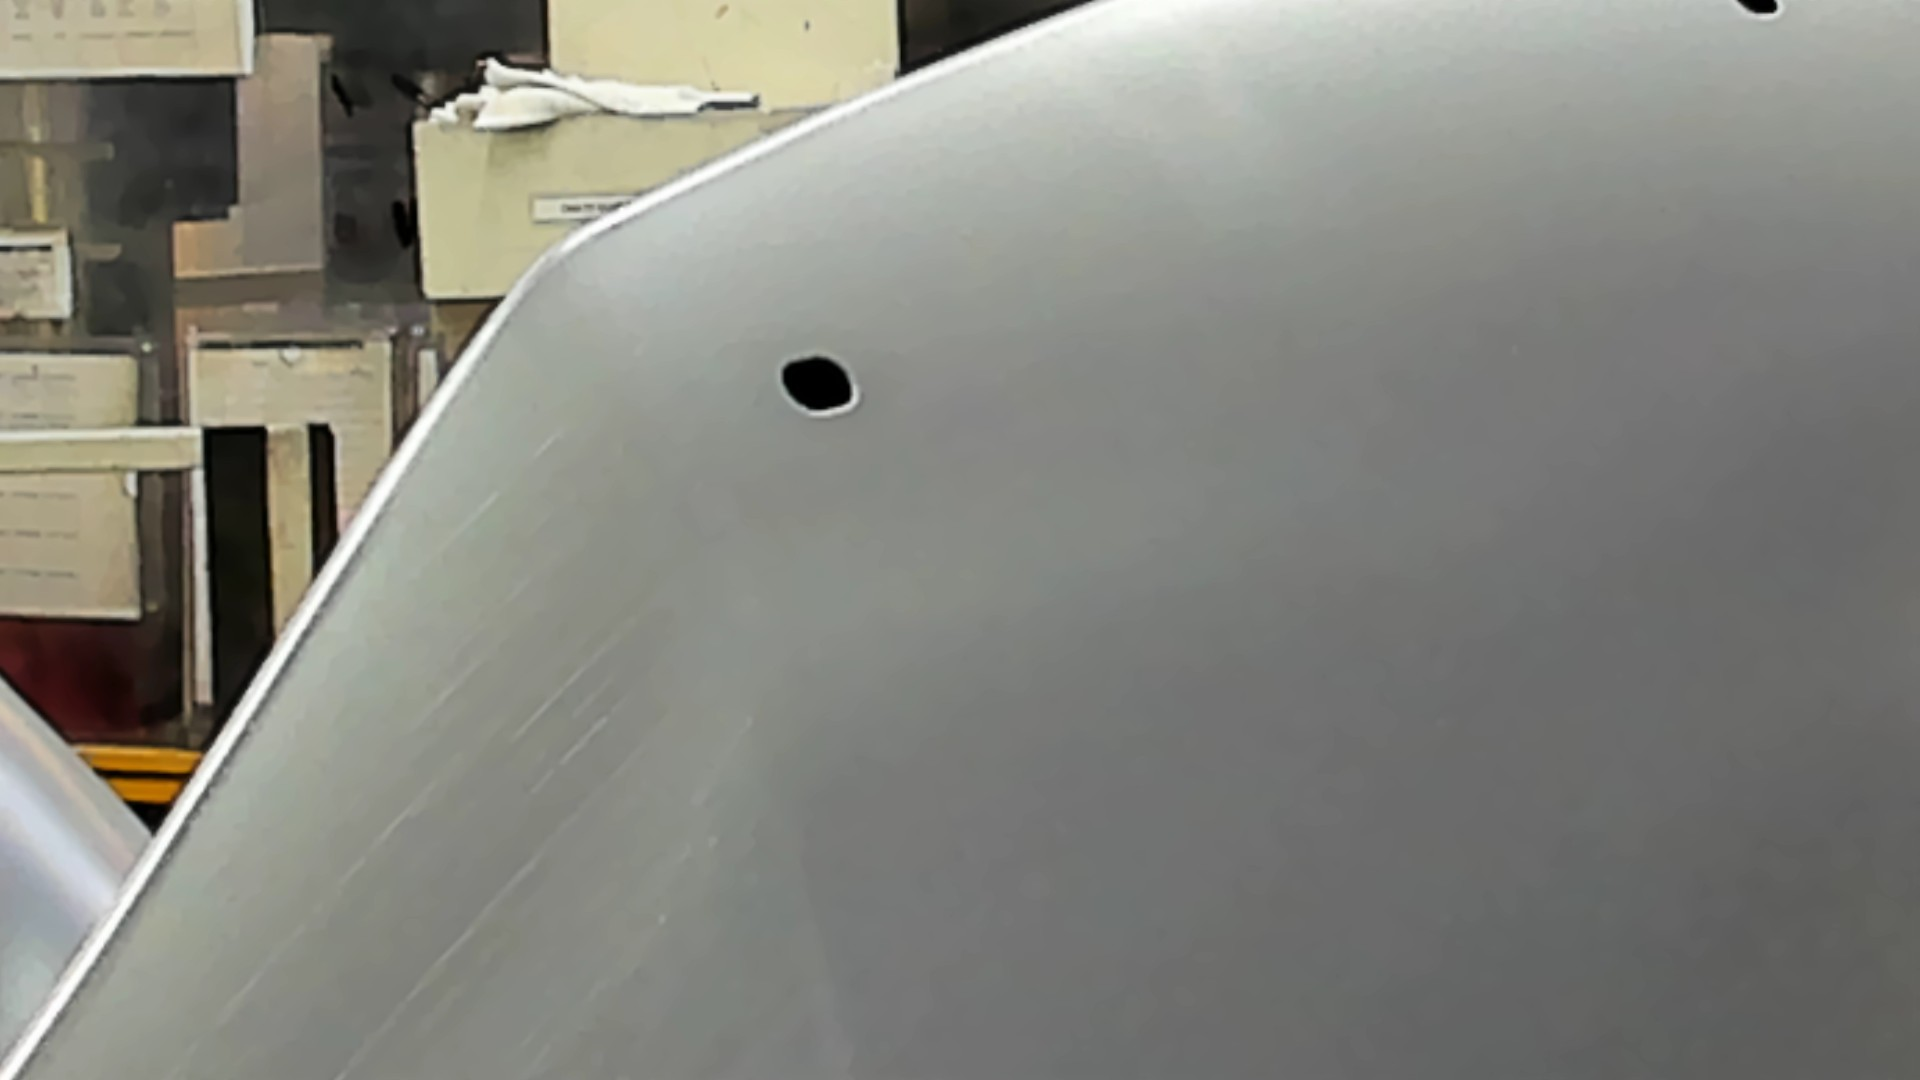amorfo: (774, 349, 865, 419), (1735, 1, 1787, 18)
